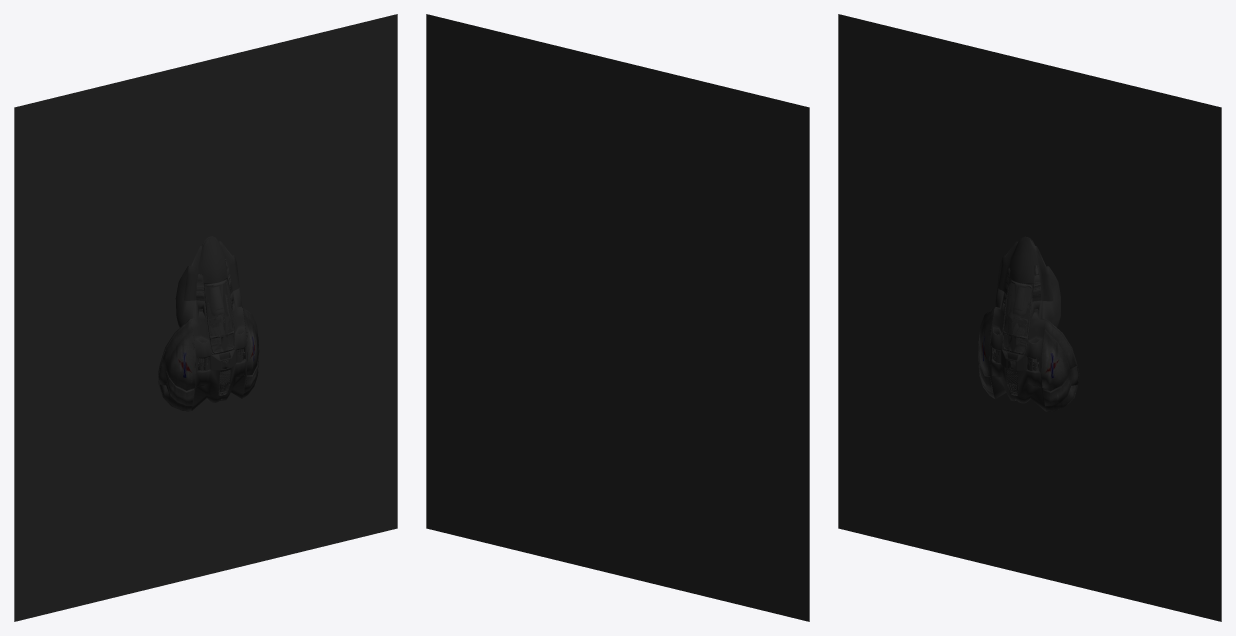
File: scorpion_ship.glb
The picture shows the model from 3 angles, left to right: view 1: azimuth 30°, elevation 25°; view 2: azimuth 150°, elevation 25°; view 3: azimuth 330°, elevation 25°; orthographic projection.
Parts seen in each view (by area): view 1: Final_OBJ-3; view 2: Final_OBJ-3; view 3: Final_OBJ-3.
Part boxes in pixels (box(x1,y1,x2,y2)): Final_OBJ-3: box(14, 14, 397, 621); Final_OBJ-3: box(426, 14, 809, 621); Final_OBJ-3: box(838, 14, 1221, 621).
Size of the model in its own units: 27.9 by 35.8 by 2.52.
Materials: 28 (28 with a texture image).
